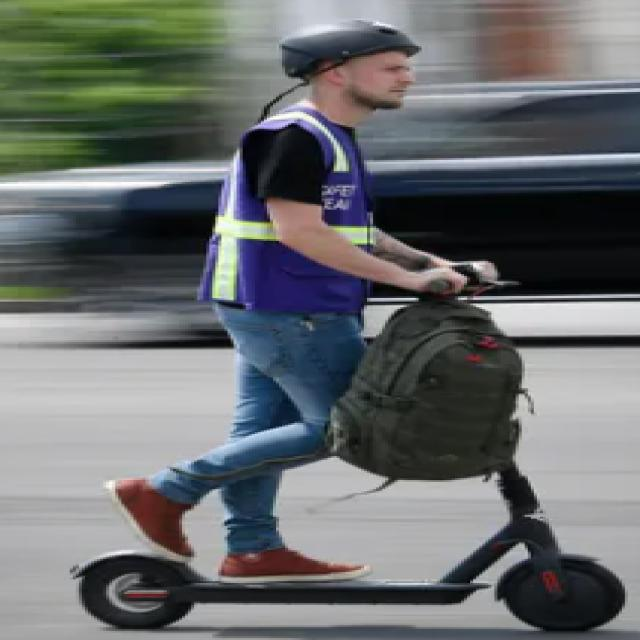helmet: (39, 11, 628, 640)
